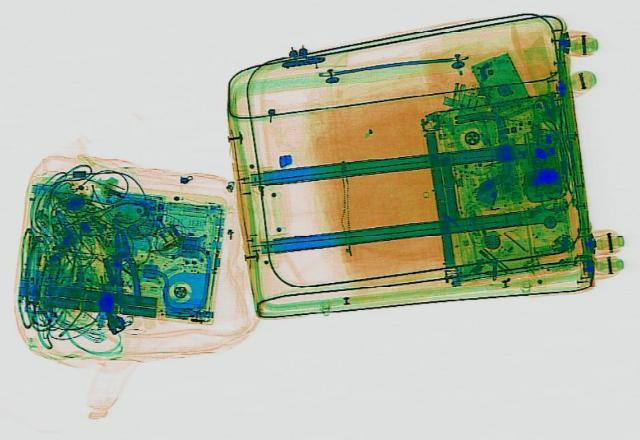Pliers: (106, 228, 142, 304)
